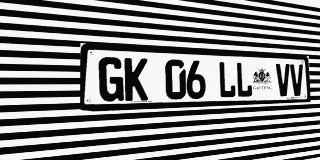0: (165, 59, 186, 100)
6: (186, 60, 206, 99)
G: (99, 57, 124, 102)
K: (125, 58, 148, 101)
L: (218, 61, 236, 98), (236, 62, 253, 98)
V: (276, 63, 291, 96), (290, 64, 304, 96)
